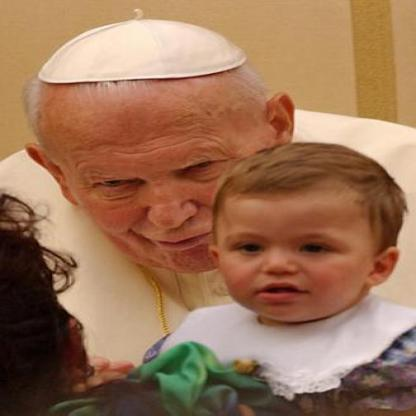face: (56, 36, 280, 277), (207, 153, 380, 323)
